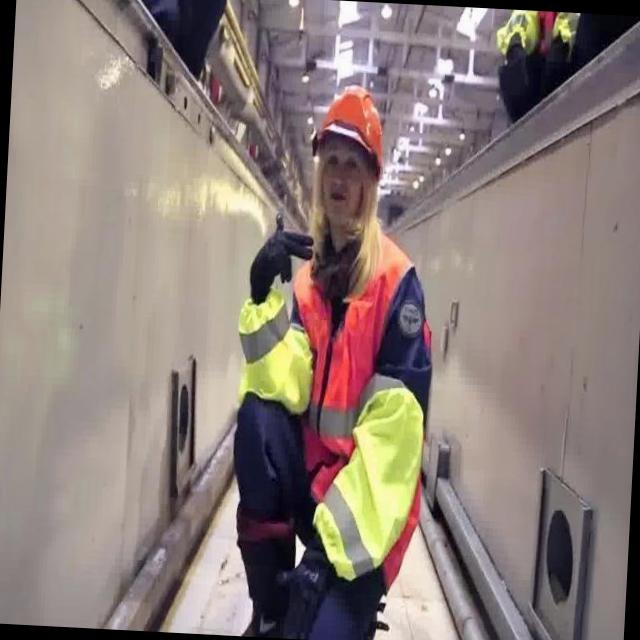vest: (224, 222, 438, 593), (494, 9, 584, 65)
